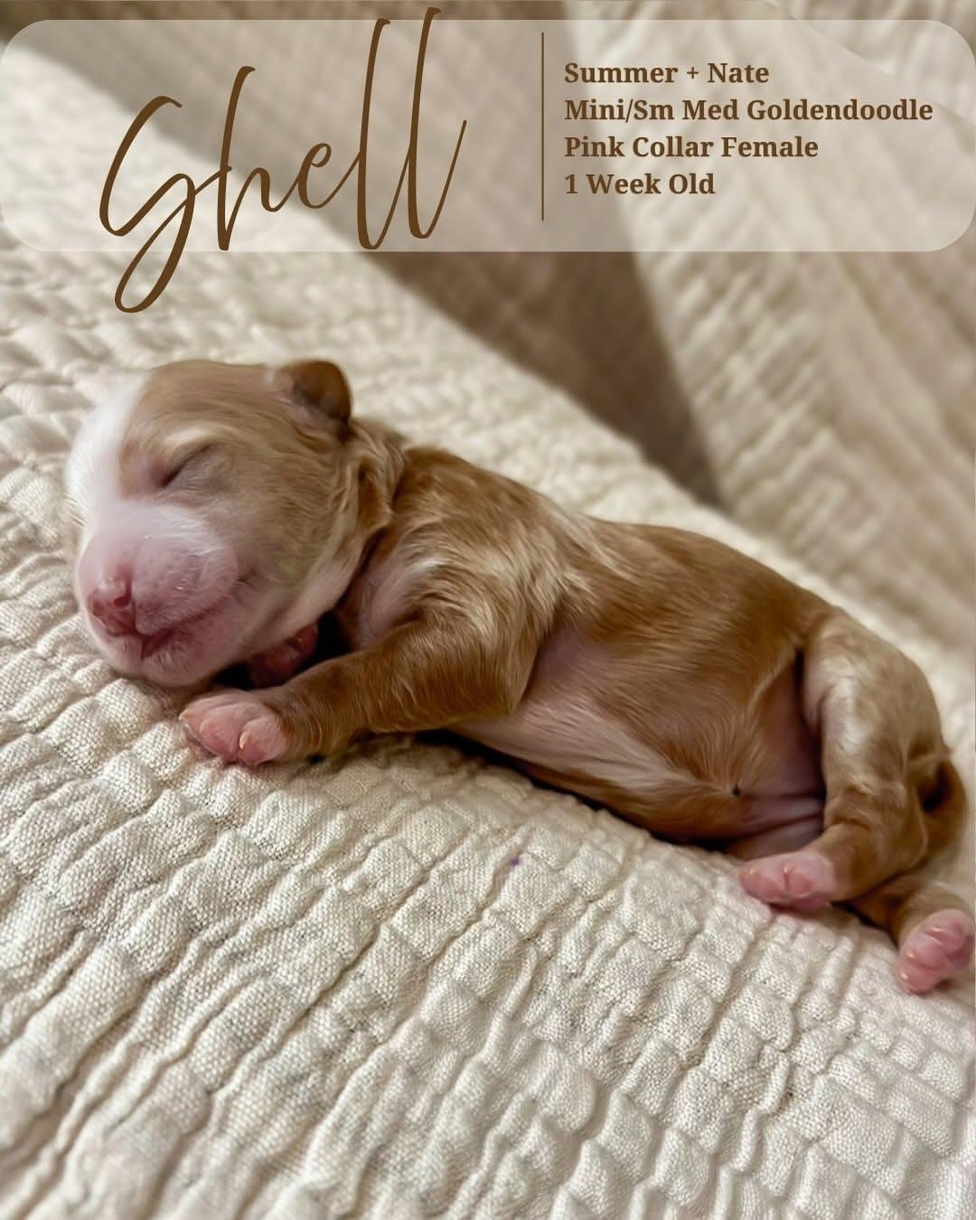puppy-dog: (63, 356, 976, 995)
